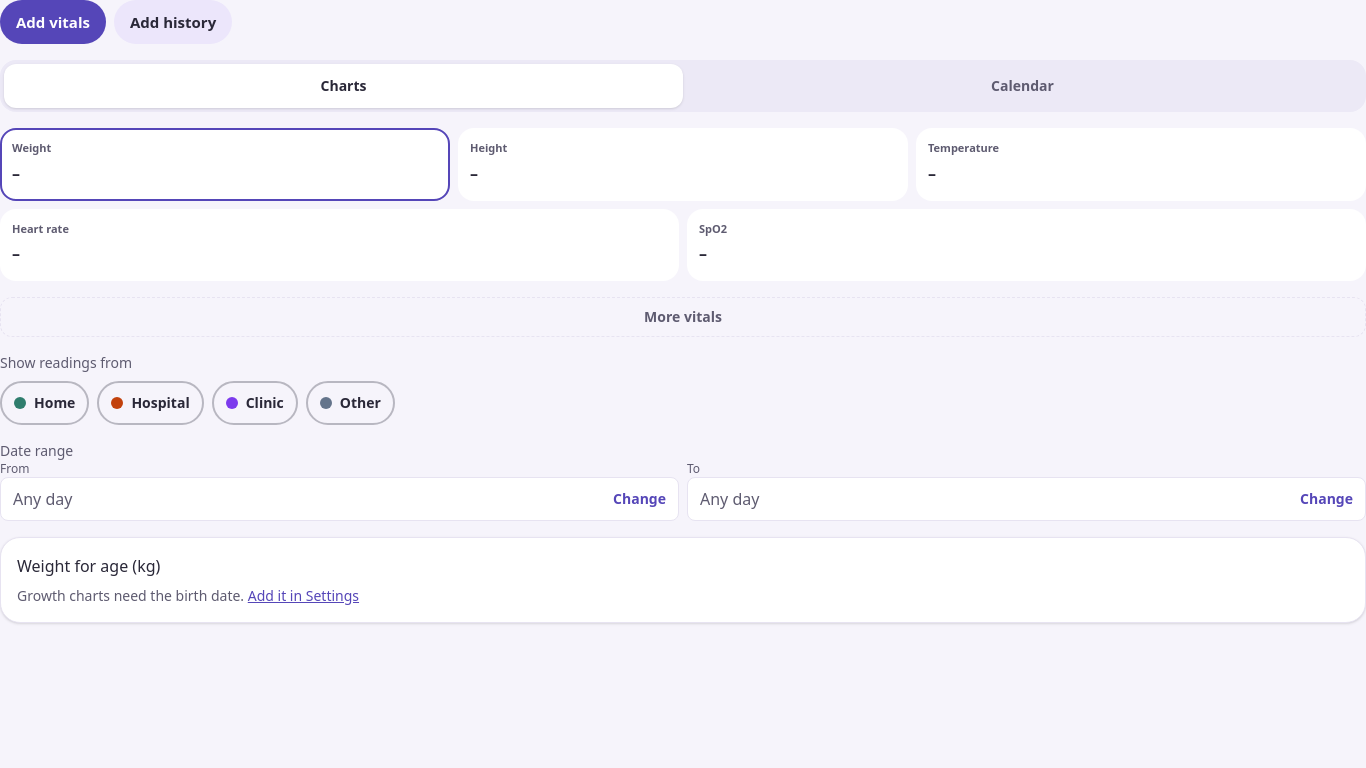
at least one measurement required
The image size is (1366, 768).
Click the button "Add vitals". click: (53, 22)
box: [0,0,106,44]
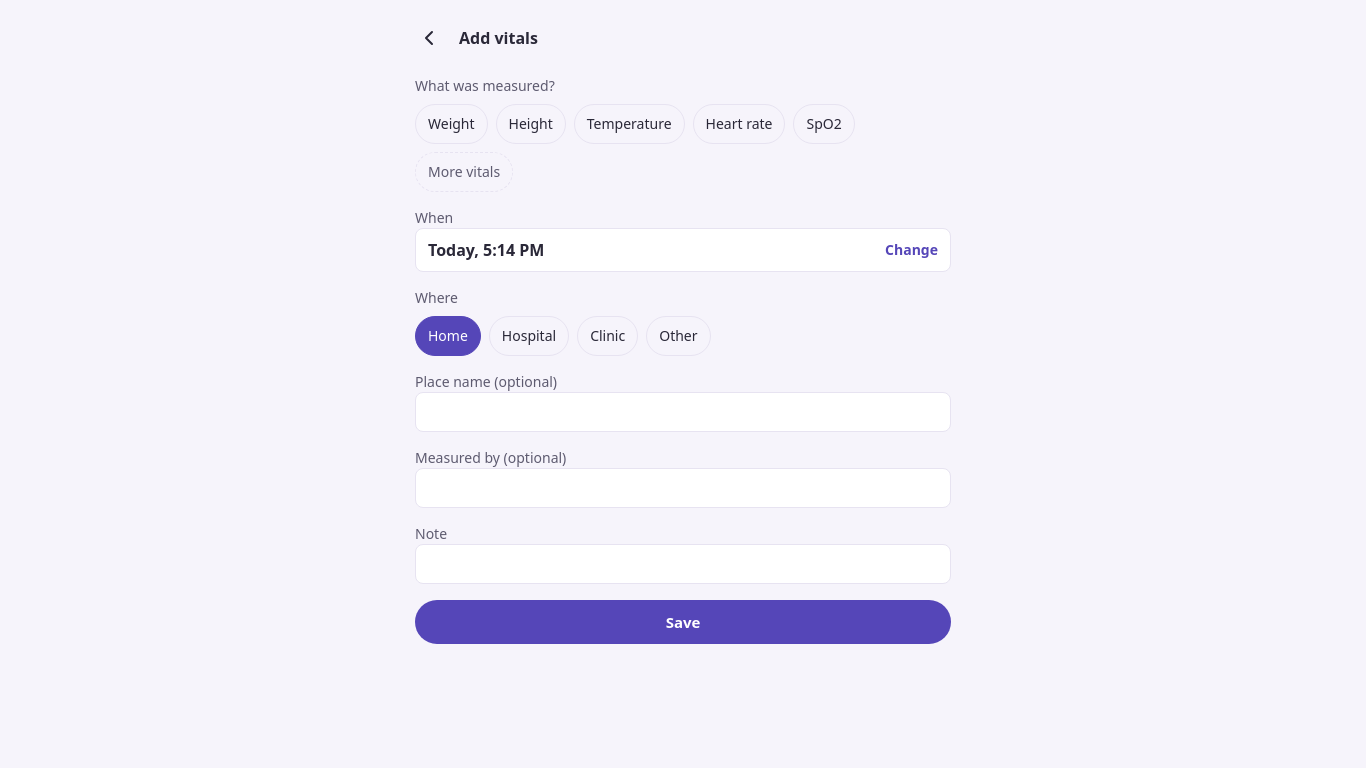
Click the button "Save". click: (683, 622)
box: [415,600,951,644]
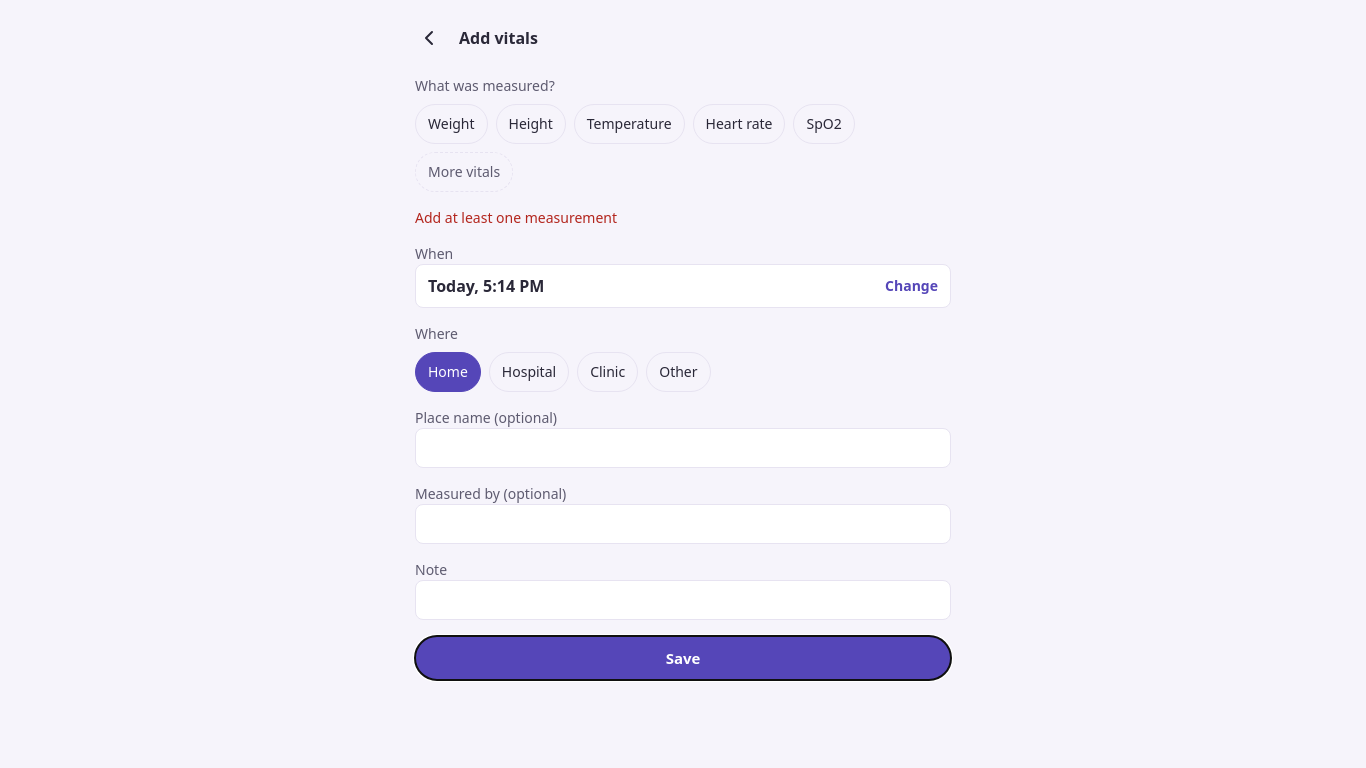
Check: the text "Add at least one measurement" is shown, box [415,208,617,227]
